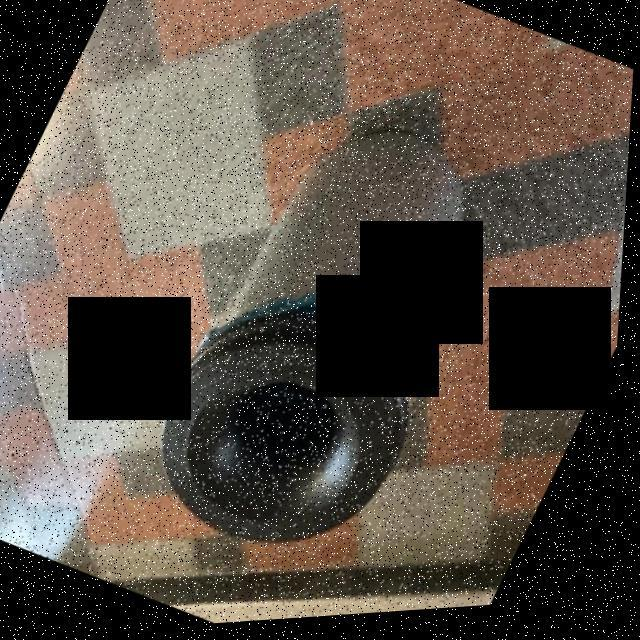bin: (88, 67, 568, 634)
